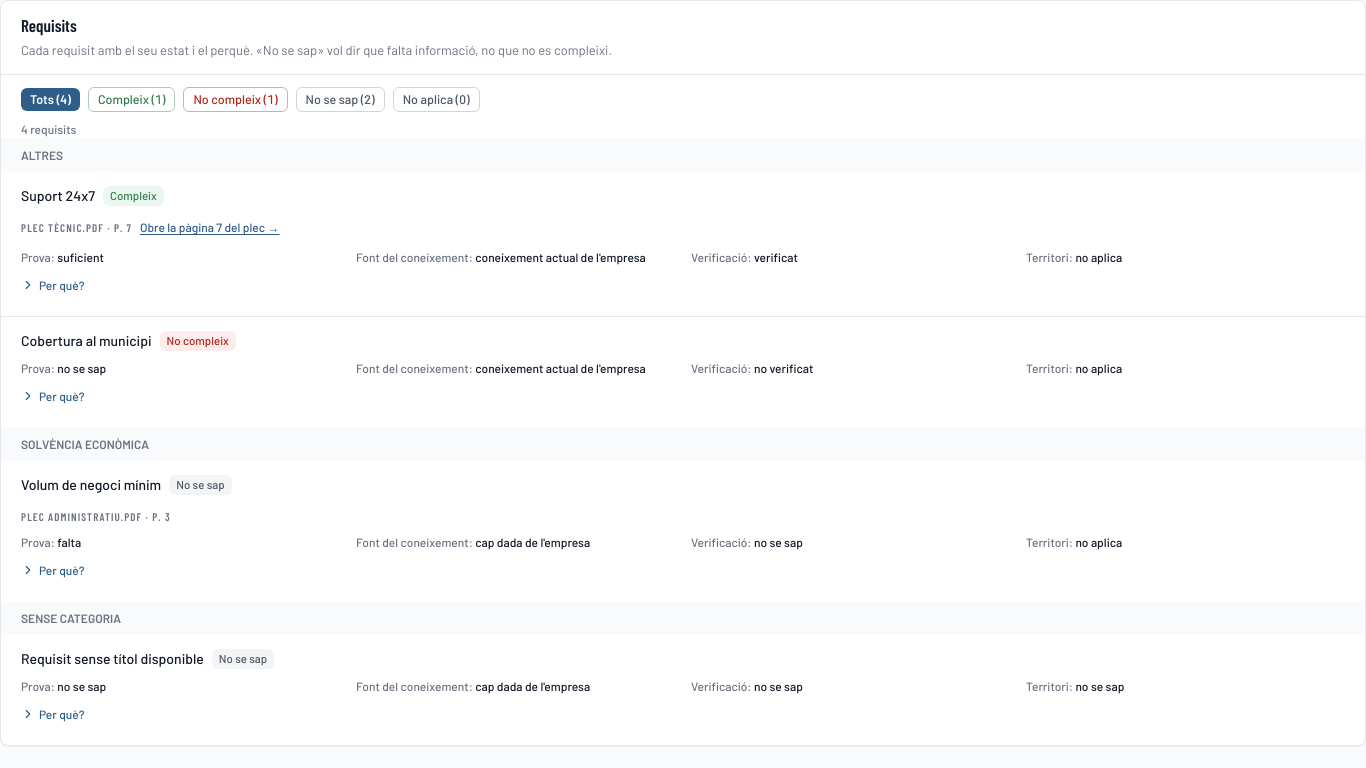
Test: Requisits › filtres per estat amb aria-pressed i recompte anunciat
Click the button "No se sap (2)" at coordinates (340, 100), box [296, 87, 385, 112]
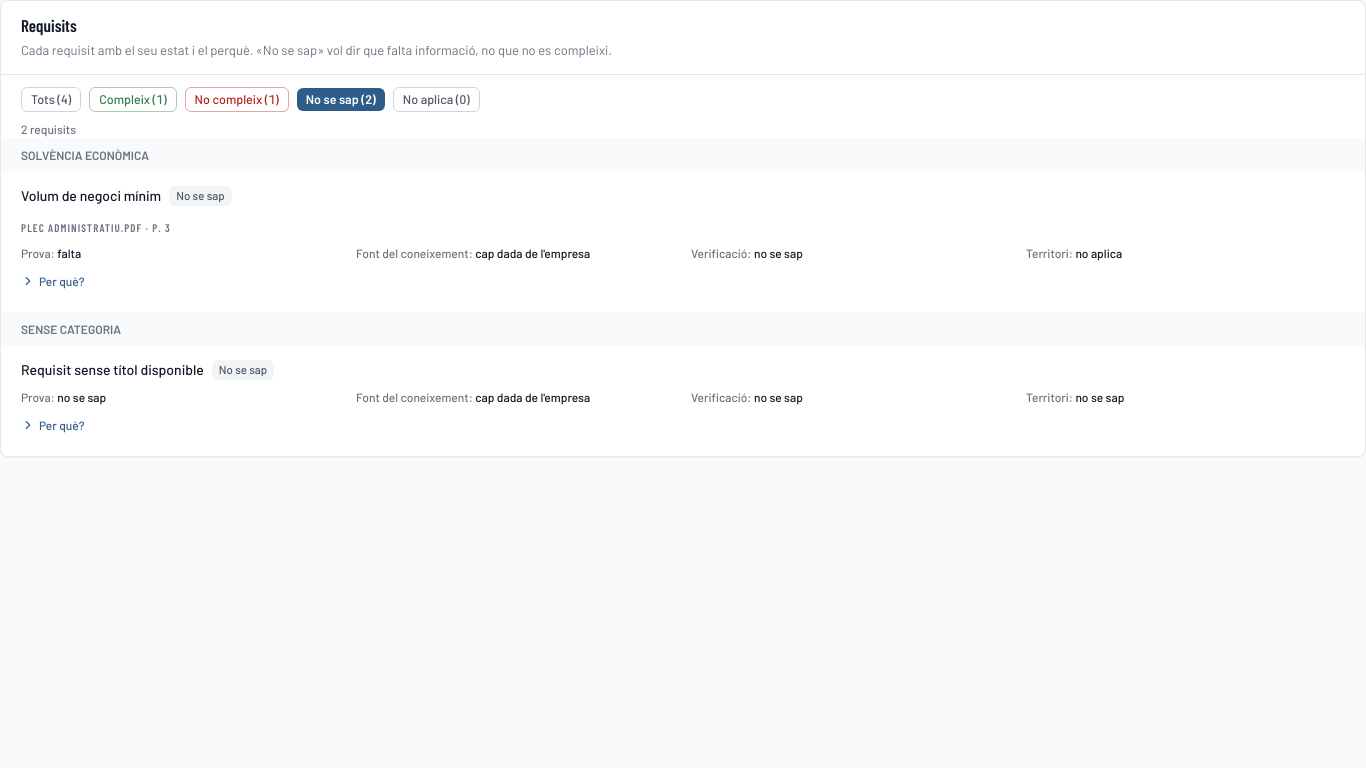
expect the message named "Recompte de requisits" reads "2 requisits": met, box [21, 122, 76, 136]
expect the text "Suport 24x7" is gone: met
